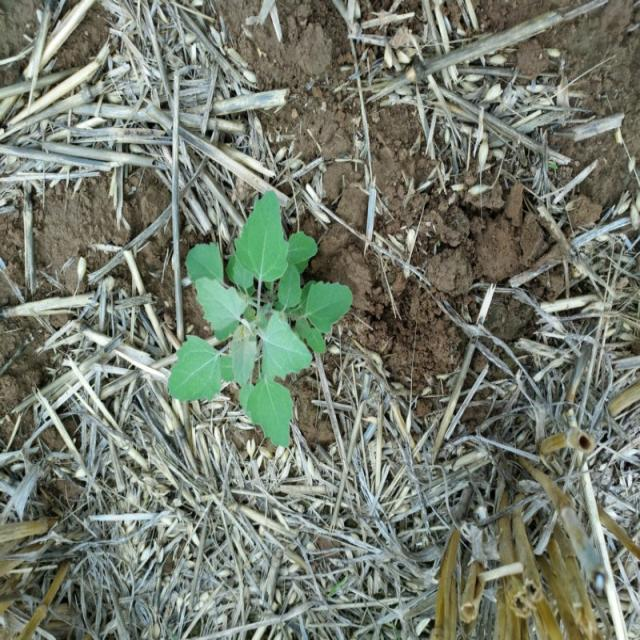goosefoots: (158, 209, 344, 432)
